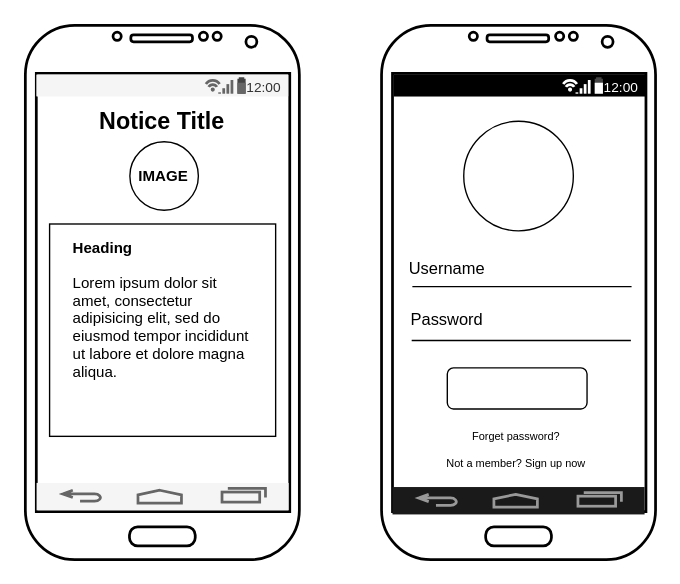
The diagram is 680 pixels wide and 584 high, and some of its shapes have lost their labels. Here are the shapes that lost their labels. From the top down, the box of each, then its label:
(462, 120, 573, 231): LOGO
(446, 366, 587, 409): Login
